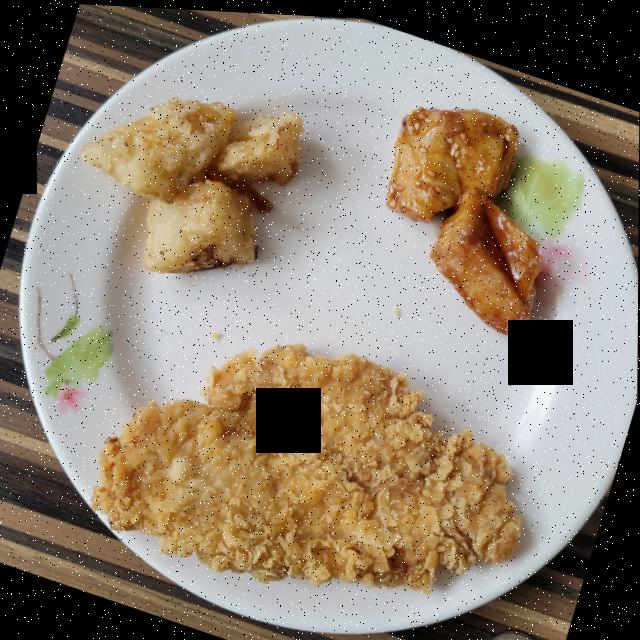coin: (487, 625, 539, 640)
creamy tofu: (386, 103, 542, 328)
fried chicken cutlet: (92, 341, 521, 587)
fried potato: (81, 95, 304, 271)
